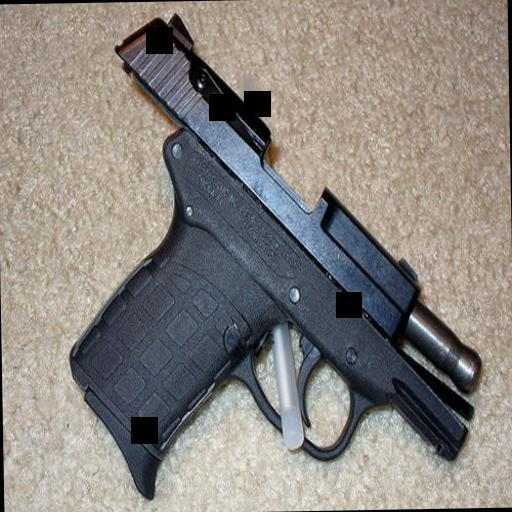Handgun: (51, 8, 483, 490)
